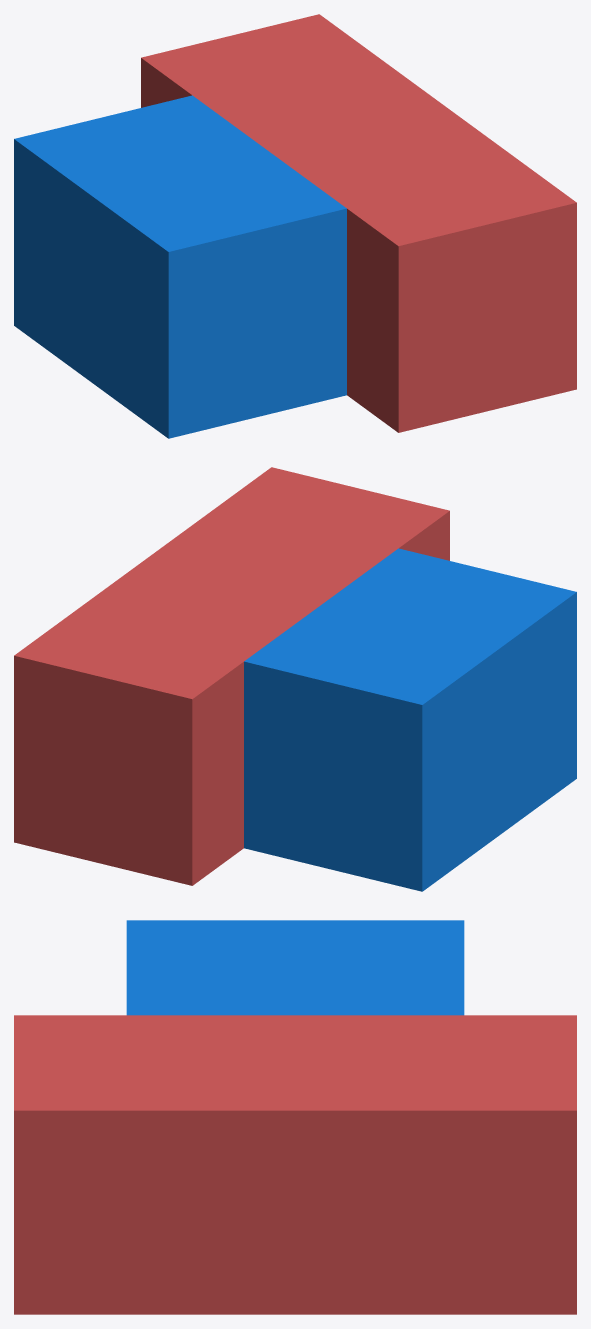
Rendered from deneme.glb.
3 renders of one model, top to bottom at view 1: azimuth 30°, elevation 25°; view 2: azimuth 150°, elevation 25°; view 3: azimuth 270°, elevation 25°, orthographic. The views are drawn at different scales.
Visible parts, largest first — view 1: Parça2_2, Parça1_2; view 2: Parça2_2, Parça1_2; view 3: Parça2_2, Parça1_2.
Part boxes in pixels (x1,y1,x2,y2): Parça2_2: (141,14,576,432); Parça1_2: (14,95,346,438); Parça2_2: (14,467,449,885); Parça1_2: (244,548,576,891); Parça2_2: (14,1015,576,1314); Parça1_2: (126,920,464,1015).
Size of the model in its own units: 0.04 by 0.02 by 0.05.
